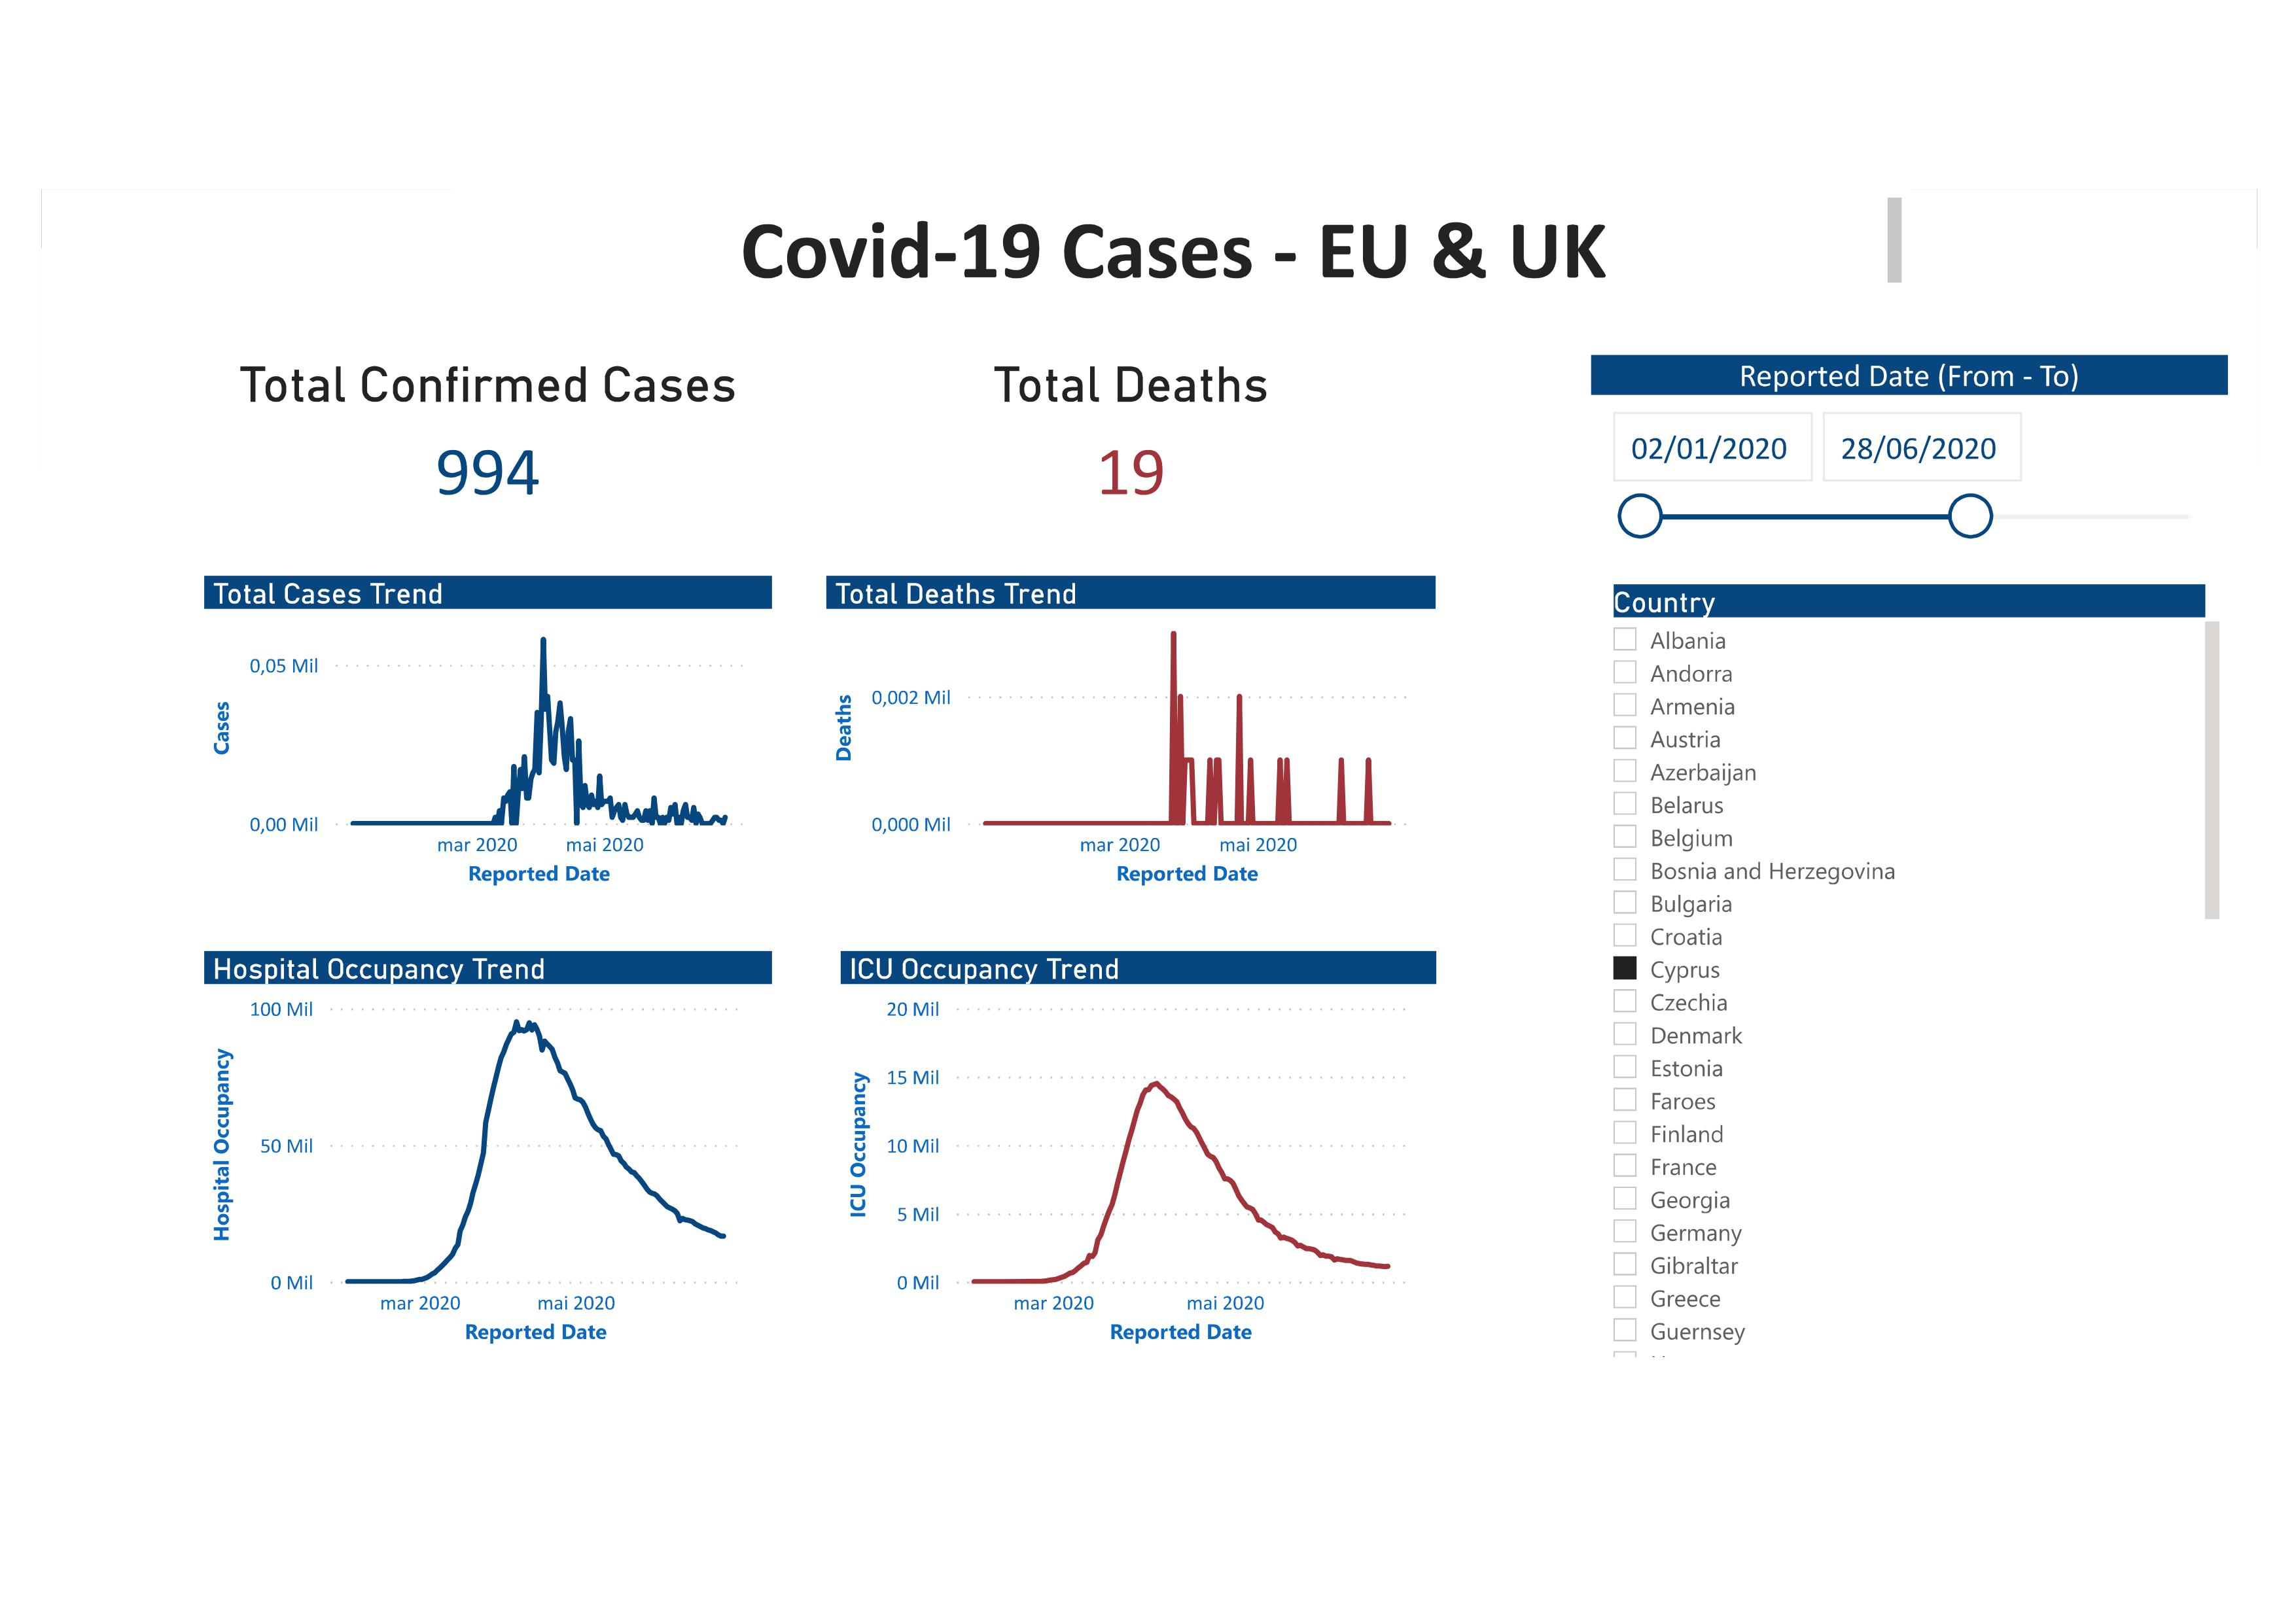

The page's visual inventory and layout, read from the dashboard file:
{"tool":"powerbi","page":{"name":"Trends","canvas":[1280,720],"ordinal":0},"visuals":[{"type":"card","title":"Total Confirmed Cases","fields":{"Values":["Sum(covid_reporting cases_and_deaths.cases_count)"]},"box":[94.4,96,328,96],"z":0},{"type":"card","title":"Total Deaths","fields":{"Values":["Sum(covid_reporting cases_and_deaths.deaths_count)"]},"box":[454.4,96,352,96],"z":1000},{"type":"textbox","box":[236.9,0,843.3,63.8],"z":2000},{"type":"lineChart","title":"Total Cases Trend","fields":{"Category":["covid_reporting cases_and_deaths.reported_date"],"Y":["Sum(covid_reporting cases_and_deaths.cases_count)"]},"box":[94.4,224,328,184],"z":3000},{"type":"lineChart","title":"Total Deaths Trend","fields":{"Category":["covid_reporting cases_and_deaths.reported_date"],"Y":["Sum(covid_reporting cases_and_deaths.deaths_count)"]},"box":[454.4,224,352,184],"z":4000},{"type":"slicer","fields":{"Values":["covid_reporting cases_and_deaths.country"]},"box":[896,224,368,456],"z":5000},{"type":"lineChart","title":"Hospital Occupancy Trend","fields":{"Y":["Sum(covid_reporting hospital_admissions_daily.hospital_occupancy_count)"],"Category":["covid_reporting hospital_admissions_daily.reported_date"]},"box":[94.4,440,328,232],"z":6000},{"type":"lineChart","title":"ICU Occupancy Trend","fields":{"Y":["Sum(covid_reporting hospital_admissions_daily.icu_occupancy_count)"],"Category":["covid_reporting hospital_admissions_daily.reported_date"]},"box":[462.4,440,344,232],"z":7000},{"type":"slicer","title":"Reported Date (From - To)","fields":{"Values":["covid_reporting cases_and_deaths.reported_date"]},"box":[896,96,368,112],"z":8001}]}

Visuals, with their boxes on the page's 1280x720 design canvas (x1, y1, x2, y2). These are canvas units, not pixel positions in the 2296x1623 screenshot, which may show the page scaled, cropped or inside an application window:
"Total Confirmed Cases" card: (left=94, top=96, right=422, bottom=192)
"Total Deaths" card: (left=454, top=96, right=806, bottom=192)
textbox: (left=237, top=0, right=1080, bottom=64)
"Total Cases Trend" lineChart: (left=94, top=224, right=422, bottom=408)
"Total Deaths Trend" lineChart: (left=454, top=224, right=806, bottom=408)
slicer - covid_reporting cases_and_deaths.country: (left=896, top=224, right=1264, bottom=680)
"Hospital Occupancy Trend" lineChart: (left=94, top=440, right=422, bottom=672)
"ICU Occupancy Trend" lineChart: (left=462, top=440, right=806, bottom=672)
"Reported Date (From - To)" slicer: (left=896, top=96, right=1264, bottom=208)
